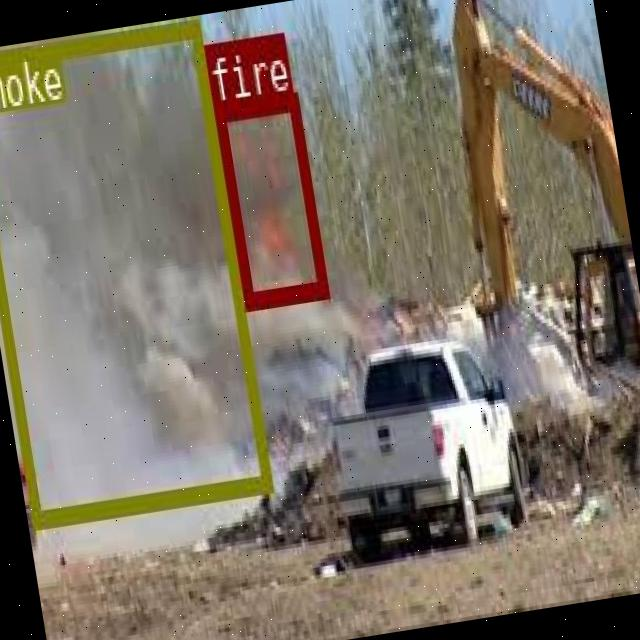fire: (212, 92, 328, 307)
smoke: (0, 19, 270, 525)
